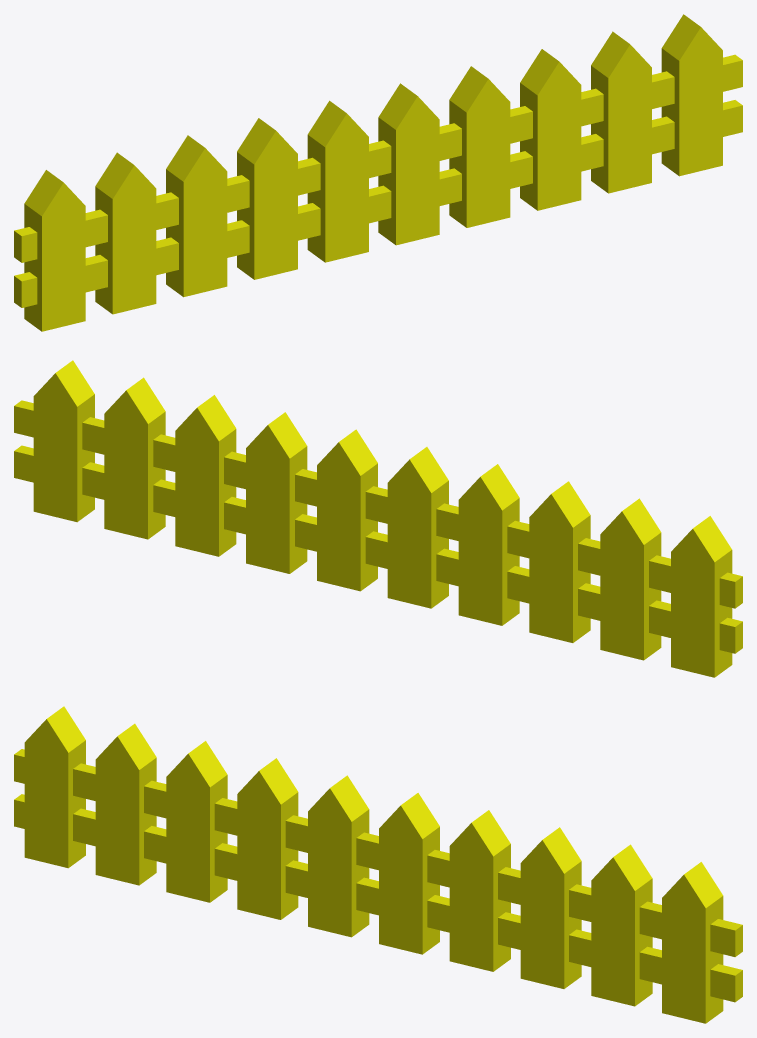
3 renders of one model, top to bottom at view 1: azimuth 30°, elevation 25°; view 2: azimuth 150°, elevation 25°; view 3: azimuth 330°, elevation 25°, orthographic.
Parts seen in each view (by area): view 1: rao; view 2: rao; view 3: rao.
Boxes of the visible parts, x1=… form: rao: x1=14, y1=14, x2=742, y2=331; rao: x1=14, y1=360, x2=742, y2=677; rao: x1=14, y1=706, x2=742, y2=1023.
Bounding box in the file's own units: 9.13 × 1.74 × 0.3844.
Materials: 1 (1 with a texture image).
